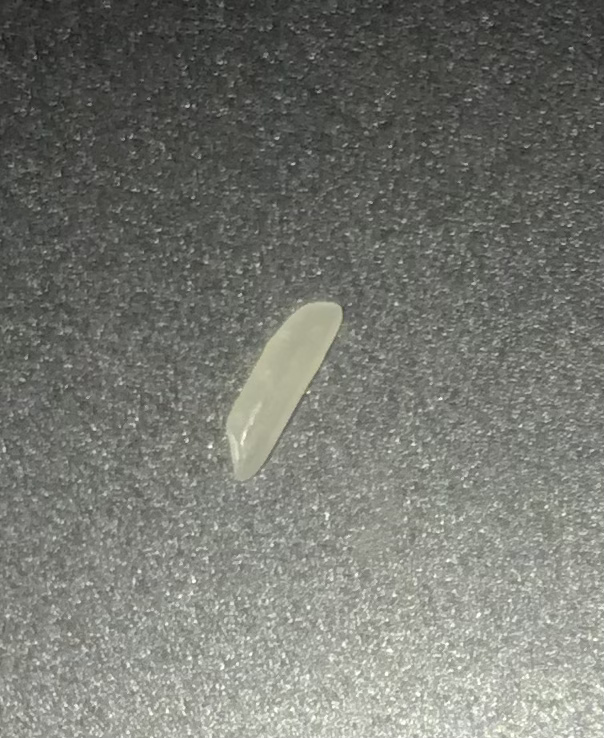Gao Long Lai: (214, 278, 356, 502)
